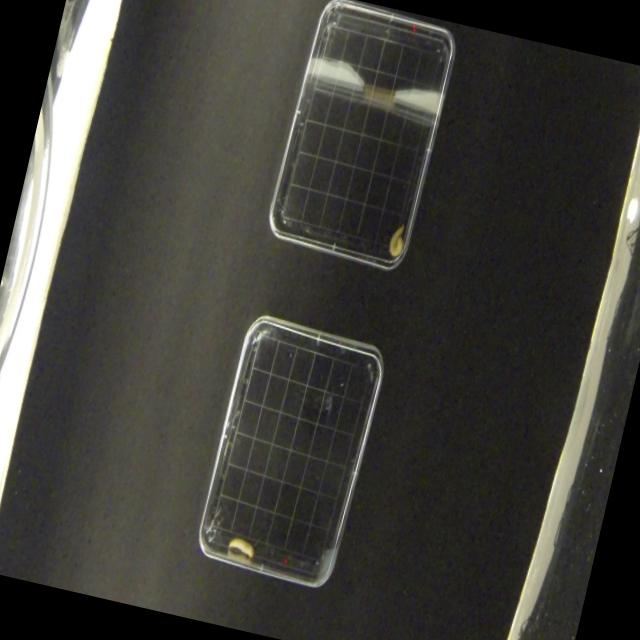larva: (224, 530, 259, 562), (387, 222, 408, 260)
